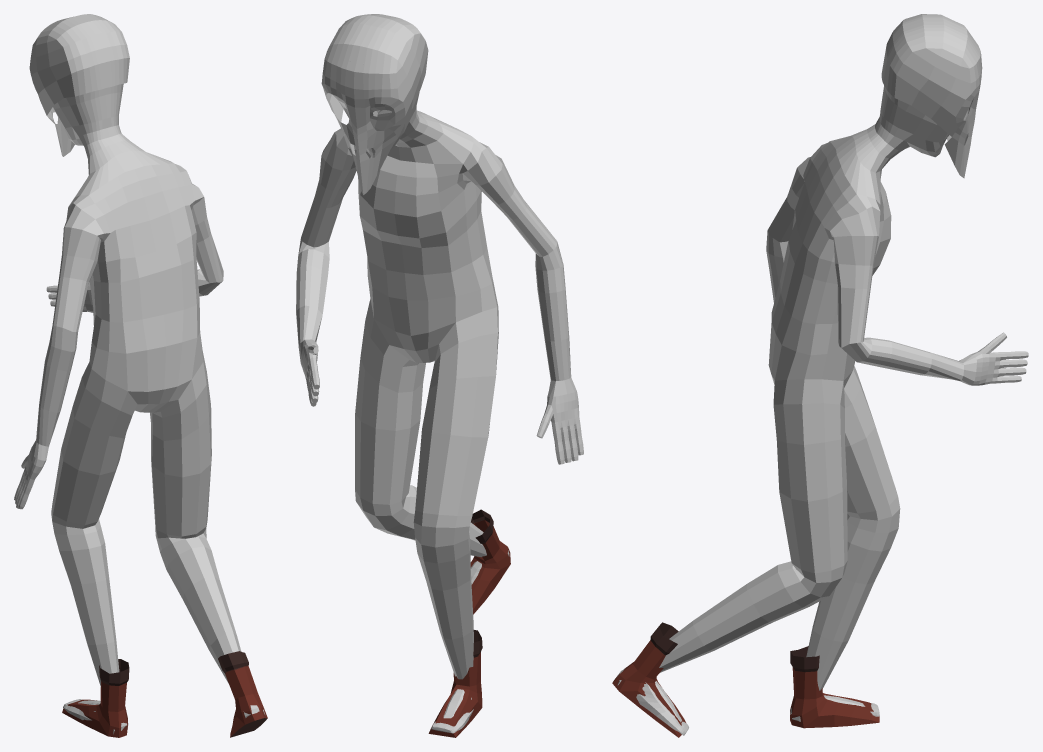
File: marcha5_000046.obj
The picture shows the model from 3 angles, left to right: view 1: azimuth 30°, elevation 25°; view 2: azimuth 150°, elevation 25°; view 3: azimuth 270°, elevation 25°; orthographic projection. The views are drawn at different scales.
Visible parts, largest first — view 1: Plane.002_Plane.001, Plane.004, Plane.003; view 2: Plane.002_Plane.001, Plane.003, Plane.004; view 3: Plane.002_Plane.001, Plane.004, Plane.003.
Part boxes in pixels (x1=…): Plane.002_Plane.001: x1=14, y1=14, x2=264, y2=734; Plane.004: x1=62, y1=659, x2=129, y2=737; Plane.003: x1=218, y1=651, x2=267, y2=737; Plane.002_Plane.001: x1=296, y1=14, x2=583, y2=733; Plane.003: x1=470, y1=509, x2=510, y2=614; Plane.004: x1=428, y1=630, x2=482, y2=737; Plane.002_Plane.001: x1=617, y1=14, x2=1028, y2=735; Plane.004: x1=790, y1=646, x2=879, y2=728; Plane.003: x1=612, y1=622, x2=685, y2=737.
Bounding box in the file's own units: 2.39 × 6.61 × 3.49.
